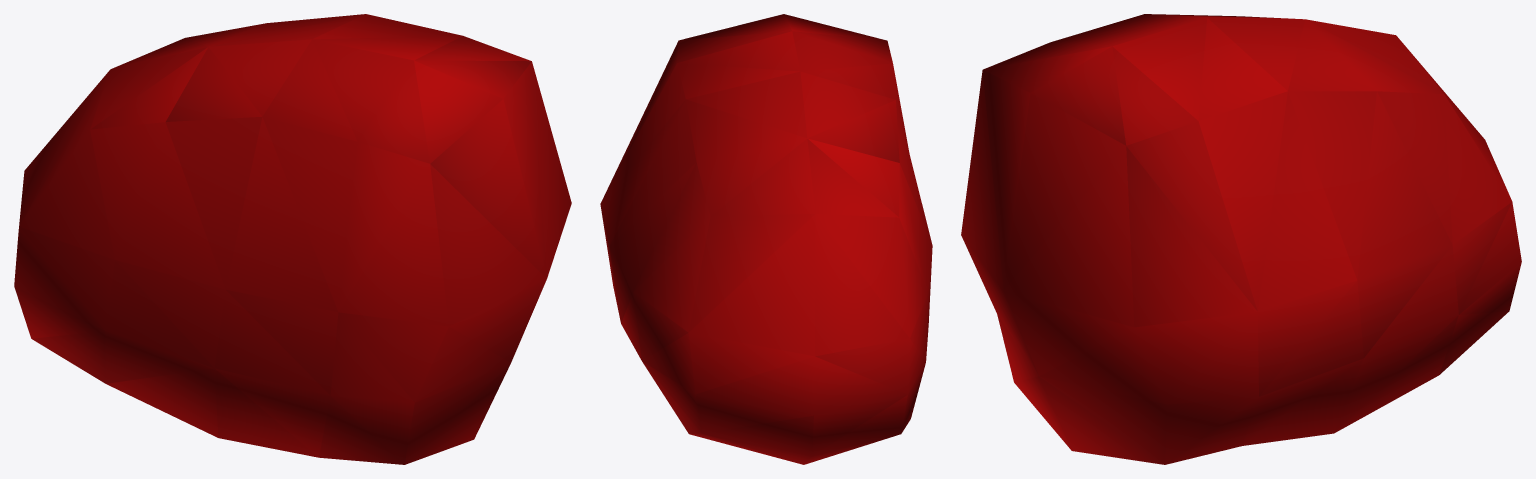
Rendered from geology-pebbles-smallsandchunk_v7.fbx.
3 views of the same model, side by side, from view 1: azimuth 30°, elevation 25°; view 2: azimuth 150°, elevation 25°; view 3: azimuth 270°, elevation 25° (orthographic). The views are drawn at different scales.
Visible parts, largest first — view 1: SmallSandChunk_v7; view 2: SmallSandChunk_v7; view 3: SmallSandChunk_v7.
Part boxes in pixels (x1=…): SmallSandChunk_v7: x1=14, y1=14, x2=571, y2=464; SmallSandChunk_v7: x1=600, y1=14, x2=932, y2=464; SmallSandChunk_v7: x1=961, y1=14, x2=1521, y2=464.
Size of the model in its own units: 3.11 by 2.75 by 3.39.
